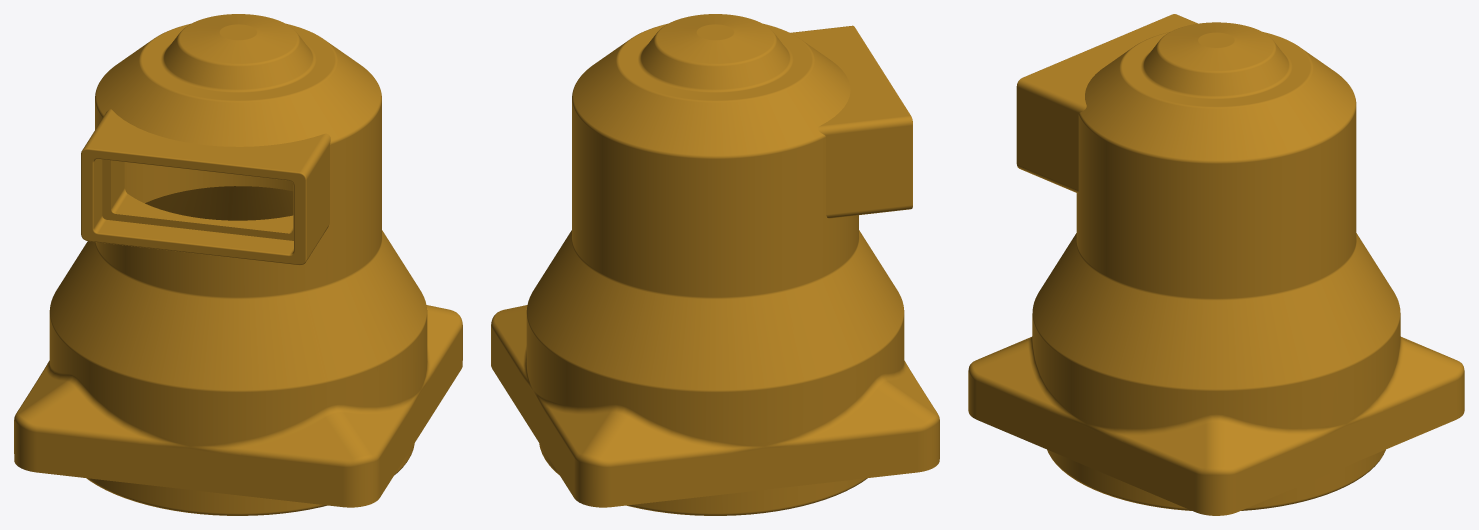
File: 04.9_izolyator-prokhodnoy-uglovoy-ipu-10-250.glb
The picture shows the model from 3 angles, left to right: view 1: azimuth 30°, elevation 25°; view 2: azimuth 150°, elevation 25°; view 3: azimuth 270°, elevation 25°; orthographic projection. The views are drawn at different scales.
Visible parts, largest first — view 1: 04.9_izolyator-prokhodnoy-uglovoy-ipu-10-250; view 2: 04.9_izolyator-prokhodnoy-uglovoy-ipu-10-250; view 3: 04.9_izolyator-prokhodnoy-uglovoy-ipu-10-250.
Part boxes in pixels (<box>): 04.9_izolyator-prokhodnoy-uglovoy-ipu-10-250: <box>14,14,462,515</box>; 04.9_izolyator-prokhodnoy-uglovoy-ipu-10-250: <box>491,14,939,515</box>; 04.9_izolyator-prokhodnoy-uglovoy-ipu-10-250: <box>968,14,1464,515</box>.
Size of the model in its own units: 337 by 300 by 337.
